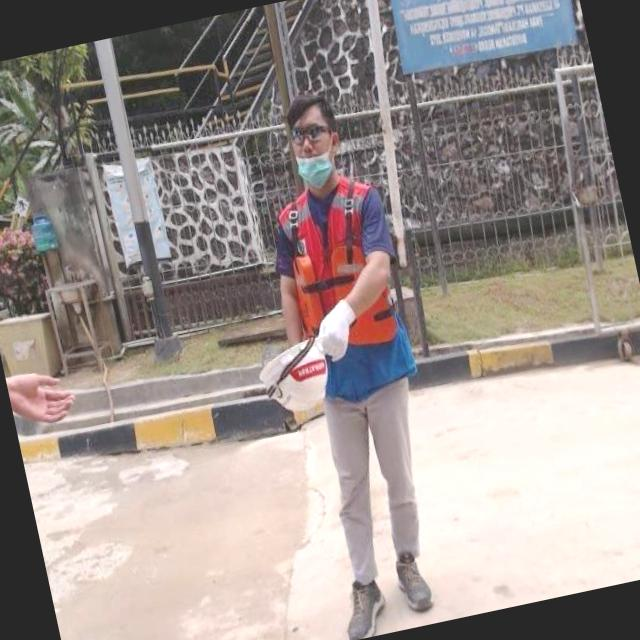vest: (268, 170, 422, 413)
